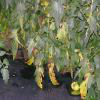Tomato Early blight leaf: (80, 71, 94, 97), (9, 26, 19, 61), (16, 0, 27, 30), (47, 64, 59, 91), (35, 66, 45, 91), (30, 14, 37, 37), (56, 29, 67, 43), (41, 2, 50, 14), (73, 53, 80, 68), (49, 45, 54, 60), (20, 28, 26, 40)
Tomato leaf: (1, 67, 10, 85), (90, 16, 97, 35), (48, 29, 56, 43), (68, 19, 73, 41), (36, 35, 43, 49), (94, 55, 99, 72), (78, 22, 85, 32), (77, 13, 84, 22)
